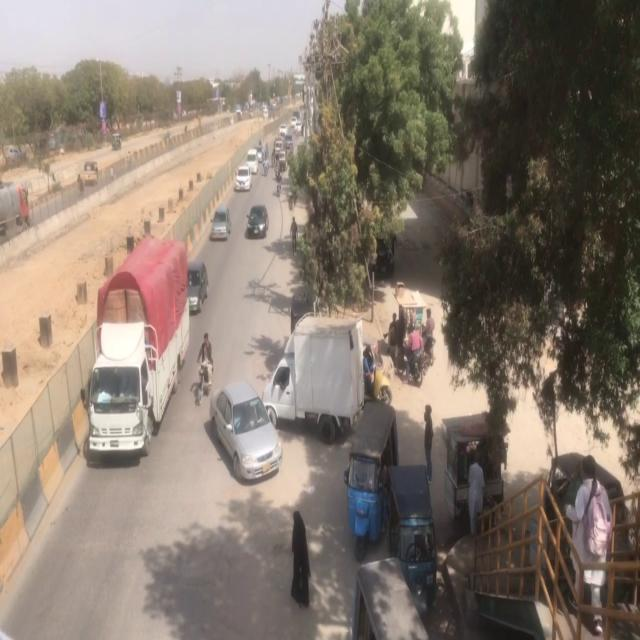car: (209, 385, 288, 489), (245, 201, 271, 245), (209, 198, 232, 247), (234, 164, 253, 195)
motorbike: (195, 331, 215, 408)
truck: (79, 220, 190, 475)
